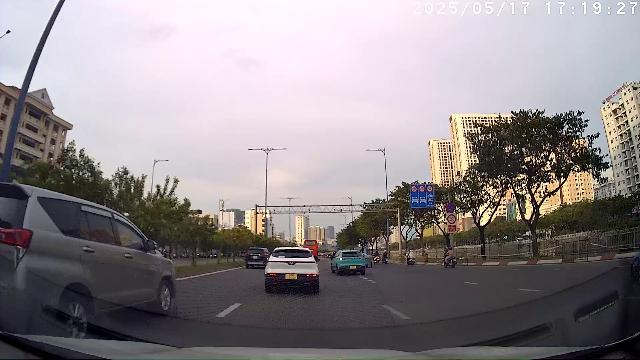127-toc-do-toi-da-50: (427, 186, 433, 192)
127-toc-do-toi-da-60: (419, 186, 425, 192), (411, 186, 417, 192)
130-cam-dung-va-do-xe: (446, 203, 456, 213)
